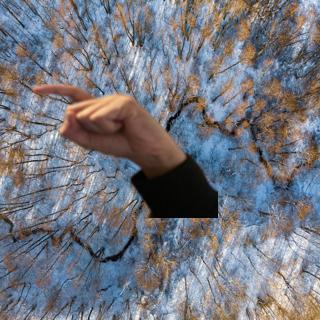WHY: (27, 76, 183, 170)
